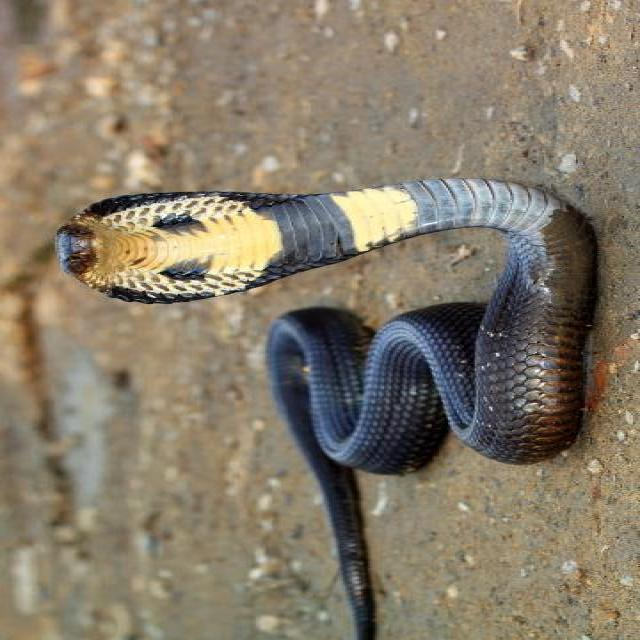Venomous: (39, 184, 416, 324)
